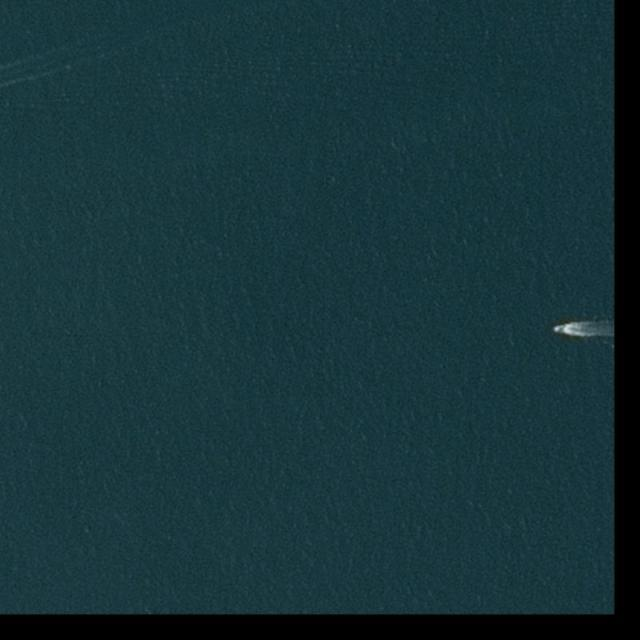ship: (554, 324, 566, 334)
